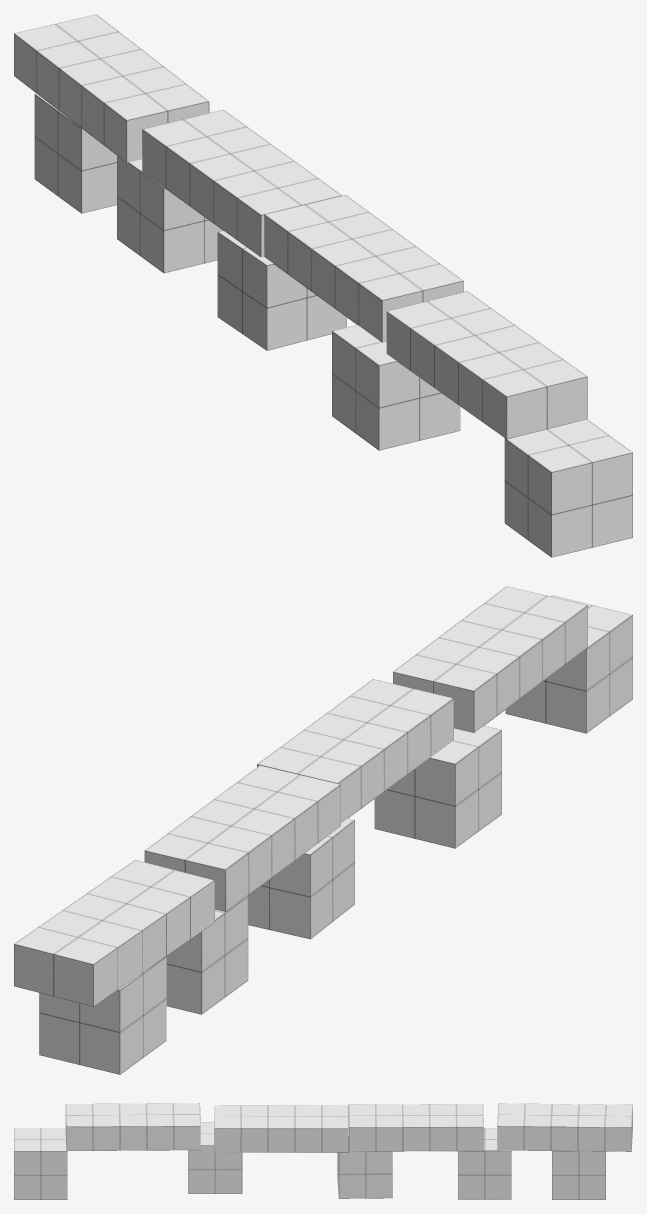
3 views of the same model, one above another, from view 1: azimuth 30°, elevation 25°; view 2: azimuth 150°, elevation 25°; view 3: azimuth 270°, elevation 25° (orthographic). The views are drawn at different scales.
Parts seen in each view (by area): view 1: GridPlank_0:1, GridPlank_0:3, GridPlank_0, GridPlank_0:2, Plane/BasicEnvironment/StartCube-1, GridCube_0:2, GridCube_0, GridCube_0:1, Plane/BasicEnvironment/StartCube-2; view 2: GridPlank_0:3, GridPlank_0:1, GridPlank_0:2, GridPlank_0, GridCube_0:2, Plane/BasicEnvironment/StartCube-2, Plane/BasicEnvironment/StartCube-1, GridCube_0, GridCube_0:1; view 3: GridPlank_0:2, GridPlank_0:3, GridPlank_0:1, GridPlank_0, Plane/BasicEnvironment/StartCube-1, GridCube_0:1, GridCube_0:2, GridCube_0, Plane/BasicEnvironment/StartCube-2.
Part boxes in pixels (box(x1,y1,x2,y2)): GridPlank_0:1: box(386, 291, 587, 439); GridPlank_0:3: box(14, 14, 209, 162); GridPlank_0: box(264, 195, 463, 342); GridPlank_0:2: box(142, 109, 341, 257); Plane/BasicEnvironment/StartCube-1: box(504, 419, 632, 557); GridCube_0:2: box(332, 325, 460, 450); GridCube_0: box(217, 230, 346, 350); GridCube_0:1: box(117, 156, 222, 273); Plane/BasicEnvironment/StartCube-2: box(34, 93, 116, 213); GridPlank_0:3: box(14, 860, 214, 1006); GridPlank_0:1: box(393, 586, 587, 732); GridPlank_0:2: box(144, 765, 340, 911); GridPlank_0: box(257, 679, 453, 822); GridCube_0:2: box(374, 725, 501, 848); Plane/BasicEnvironment/StartCube-2: box(39, 956, 166, 1074); Plane/BasicEnvironment/StartCube-1: box(505, 595, 632, 733); GridCube_0: box(248, 818, 354, 939); GridCube_0:1: box(166, 896, 248, 1014); GridPlank_0:2: box(348, 1104, 483, 1151); GridPlank_0:3: box(497, 1103, 632, 1151); GridPlank_0:1: box(65, 1103, 200, 1150); GridPlank_0: box(214, 1105, 348, 1152); Plane/BasicEnvironment/StartCube-1: box(14, 1128, 67, 1199); GridCube_0:1: box(458, 1128, 511, 1199); GridCube_0:2: box(188, 1122, 242, 1193); GridCube_0: box(337, 1129, 392, 1198); Plane/BasicEnvironment/StartCube-2: box(552, 1151, 605, 1199).
Size of the model in its own units: 0.2635 by 0.3009 by 2.3.
